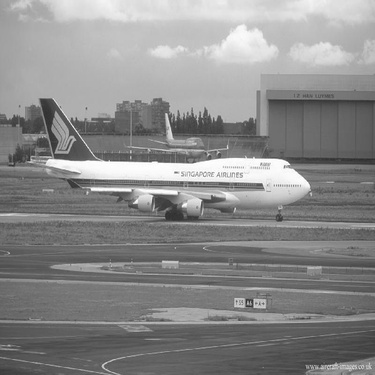airplane: (14, 107, 328, 239), (118, 100, 244, 156)
